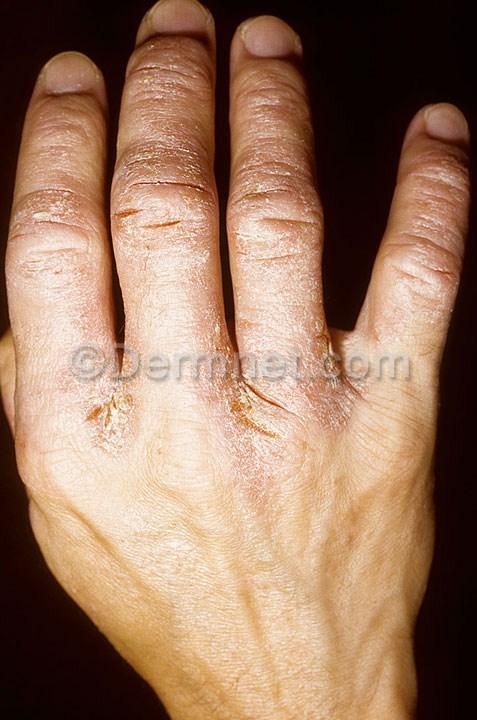Eczema: (176, 388, 375, 529), (37, 374, 165, 505), (128, 219, 234, 351), (122, 94, 214, 205), (13, 246, 104, 352), (232, 261, 323, 356), (232, 140, 307, 254), (20, 127, 90, 229), (232, 67, 322, 144), (395, 180, 468, 264), (358, 281, 437, 354), (403, 138, 467, 192)
